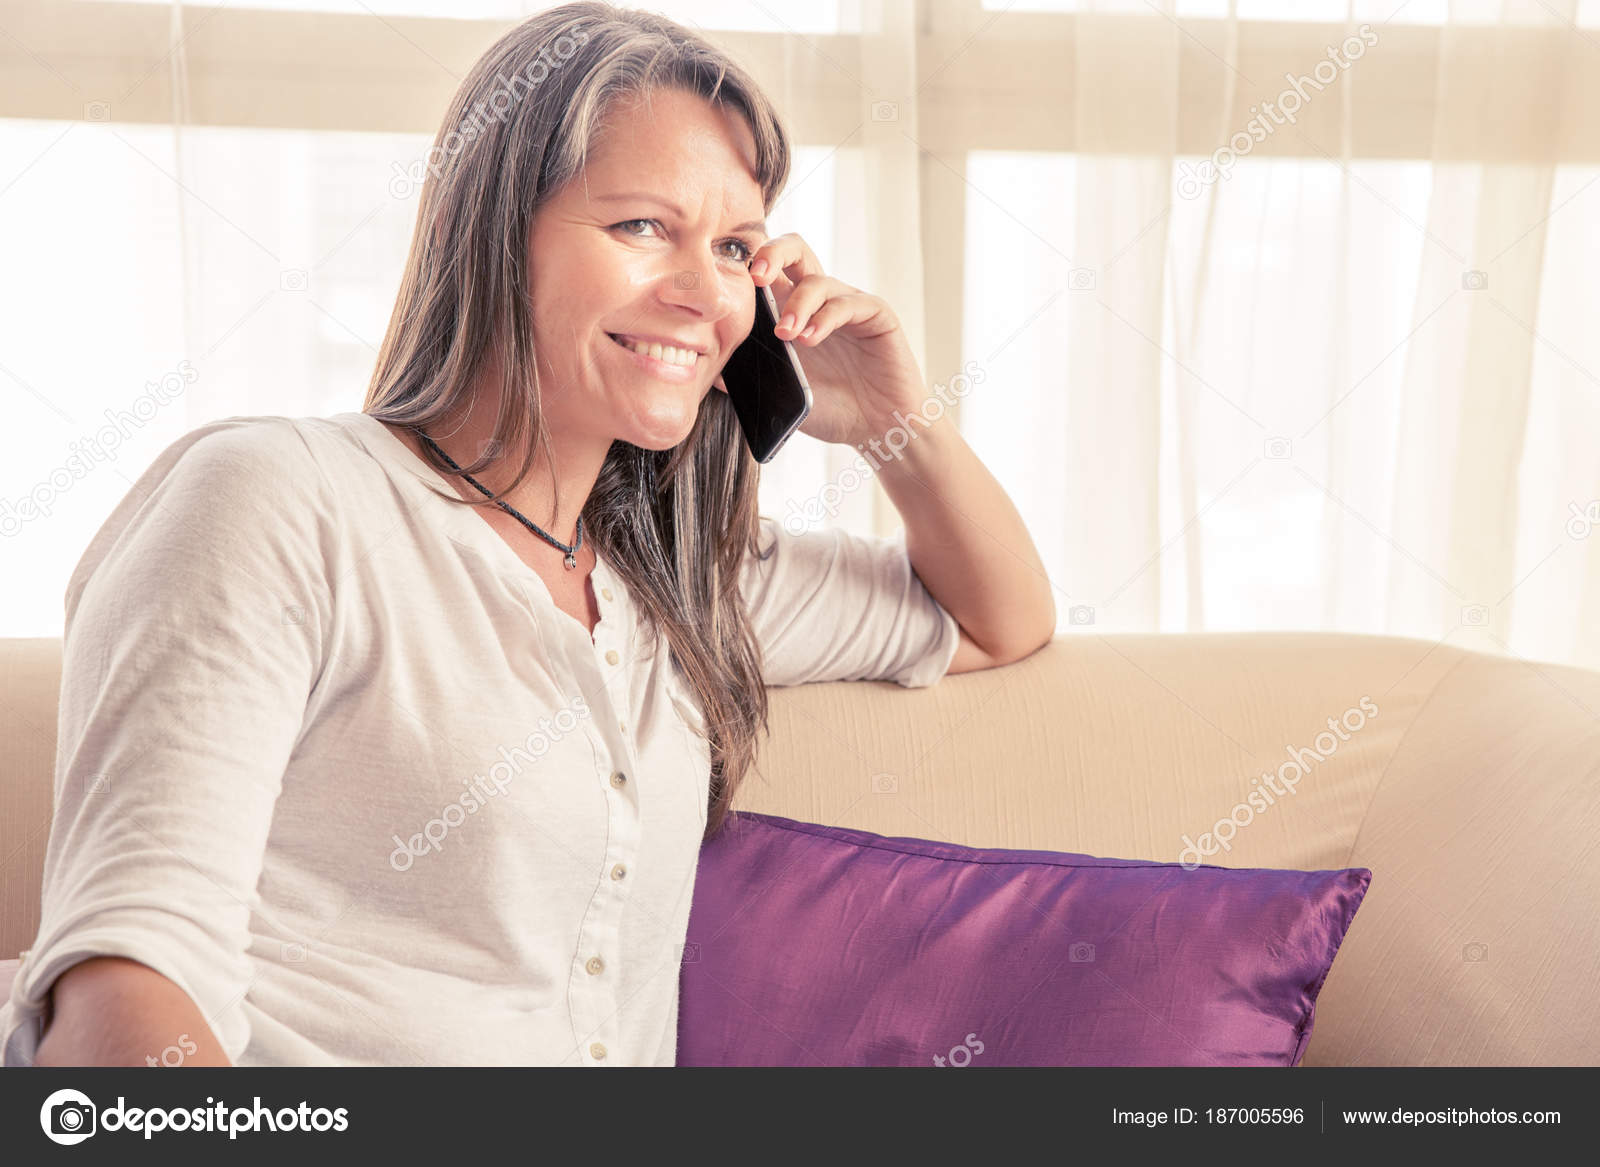phone: (738, 224, 878, 469)
talk: (554, 178, 917, 515)
